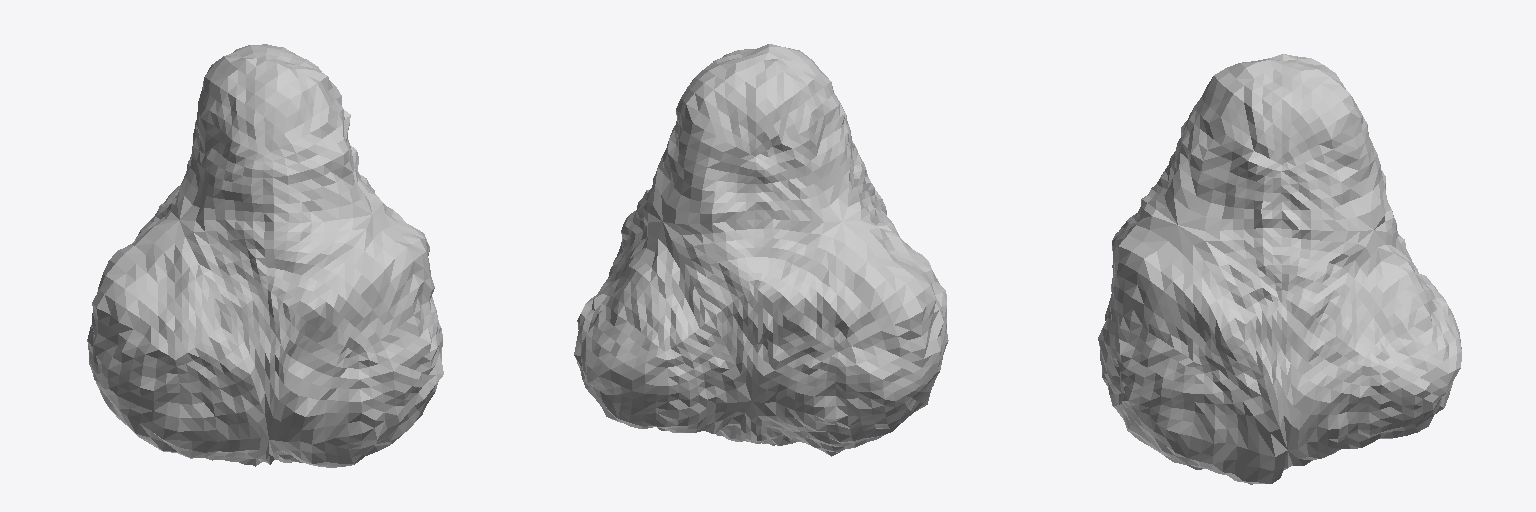
File: Asteroid2.obj
The picture shows the model from 3 angles: view 1: azimuth 30°, elevation 25°; view 2: azimuth 150°, elevation 25°; view 3: azimuth 270°, elevation 25°; orthographic projection.
Parts seen in each view (by area): view 1: rock.016; view 2: rock.016; view 3: rock.016.
Part boxes in pixels (left/top/right/bottom): rock.016: left=87, top=44, right=443, bottom=467; rock.016: left=574, top=44, right=948, bottom=456; rock.016: left=1098, top=54, right=1461, bottom=484.
Size of the model in its own units: 0.9478 by 1.12 by 0.9318.